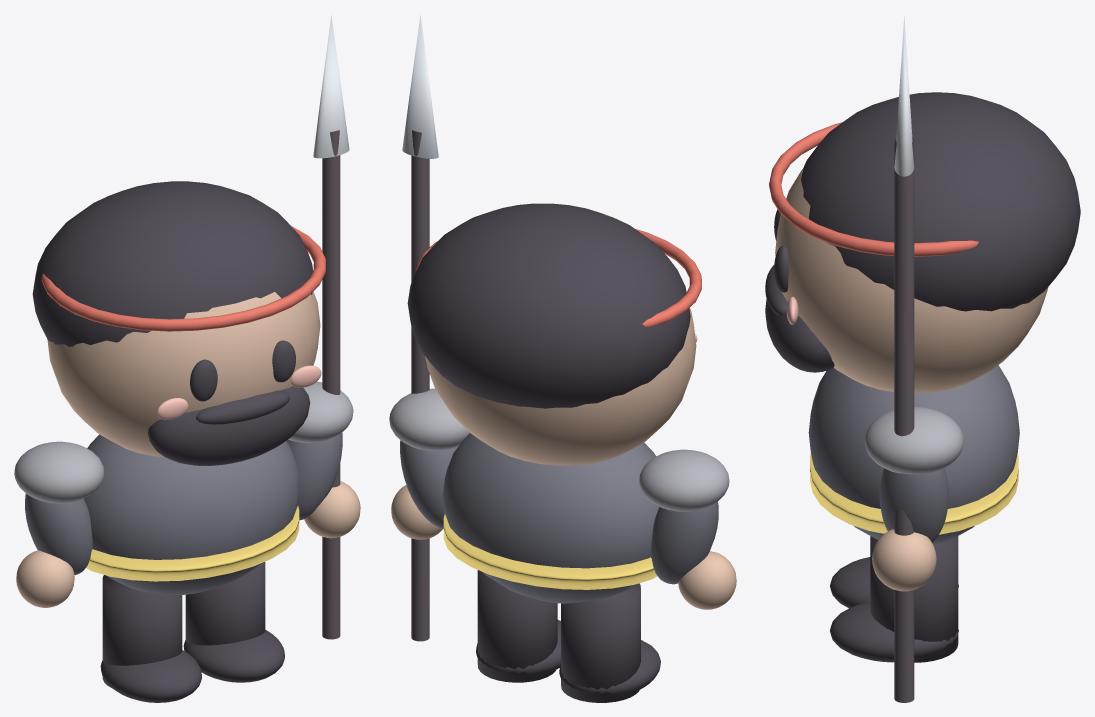
File: zhangfei.fbx
The picture shows the model from 3 angles, left to right: view 1: azimuth 30°, elevation 25°; view 2: azimuth 150°, elevation 25°; view 3: azimuth 270°, elevation 25°; orthographic projection. The views are drawn at different scales.
Parts seen in each view (by area): view 1: hair, body, head_mesh, wp_shaft, beard, leg, leg.001, belt, band, pauldron.001, arm_mesh.001, shoe (+10 smaller); view 2: hair, body, head_mesh, leg, leg.001, wp_shaft, belt, pauldron.001, arm_mesh.001, pauldron, arm_mesh, wp_tip (+5 smaller); view 3: hair, head_mesh, body, wp_shaft, leg.001, pauldron, band, belt, arm_mesh, shoe.001, hand_mesh, beard (+4 smaller).
Boxes of the visible parts, bbox=[...] form: hair: bbox=[32, 181, 313, 346]; body: bbox=[84, 434, 300, 594]; head_mesh: bbox=[47, 291, 320, 456]; wp_shaft: bbox=[322, 130, 340, 639]; beard: bbox=[148, 386, 310, 465]; leg: bbox=[102, 575, 182, 688]; leg.001: bbox=[185, 562, 265, 645]; belt: bbox=[86, 506, 299, 581]; band: bbox=[41, 226, 325, 331]; pauldron.001: bbox=[14, 441, 104, 503]; arm_mesh.001: bbox=[25, 493, 92, 575]; shoe: bbox=[100, 650, 201, 702]; hair: bbox=[407, 203, 690, 408]; body: bbox=[442, 433, 659, 603]; head_mesh: bbox=[425, 308, 696, 465]; leg: bbox=[561, 583, 640, 702]; leg.001: bbox=[477, 570, 557, 682]; wp_shaft: bbox=[411, 130, 429, 641]; belt: bbox=[443, 514, 657, 589]; pauldron.001: bbox=[639, 449, 729, 511]; arm_mesh.001: bbox=[650, 502, 718, 584]; pauldron: bbox=[389, 388, 469, 450]; arm_mesh: bbox=[400, 440, 458, 528]; wp_tip: bbox=[402, 14, 438, 158]; hair: bbox=[801, 92, 1080, 311]; head_mesh: bbox=[775, 168, 1048, 393]; body: bbox=[808, 365, 1019, 544]; wp_shaft: bbox=[894, 138, 914, 702]; leg.001: bbox=[870, 536, 958, 662]; pauldron: bbox=[864, 407, 963, 474]; band: bbox=[769, 122, 978, 256]; belt: bbox=[810, 453, 1018, 534]; arm_mesh: bbox=[879, 468, 948, 542]; shoe.001: bbox=[830, 601, 958, 662]; hand_mesh: bbox=[872, 529, 936, 591]; beard: bbox=[765, 299, 834, 372].
Size of the model in its own units: 0.8616 by 1.54 by 0.635.
